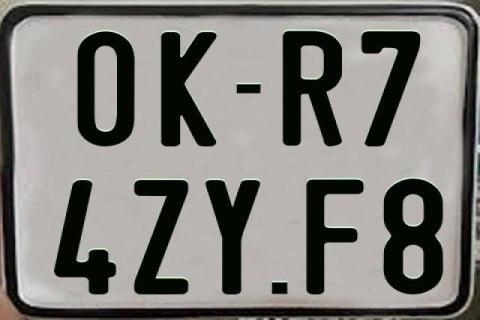0: (381, 178, 446, 298), (52, 180, 115, 298), (358, 31, 420, 148), (75, 29, 134, 149)
F: (304, 179, 364, 297)
K: (162, 32, 218, 147)
R: (282, 31, 346, 151)
Y: (204, 178, 260, 296)
Z: (134, 179, 189, 296)
